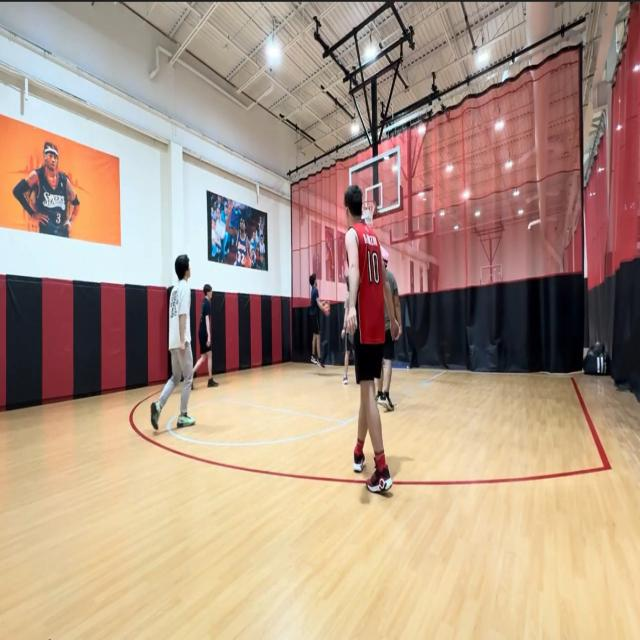Basketball: (324, 304, 330, 314)
Basketball Rim: (362, 200, 376, 223)
